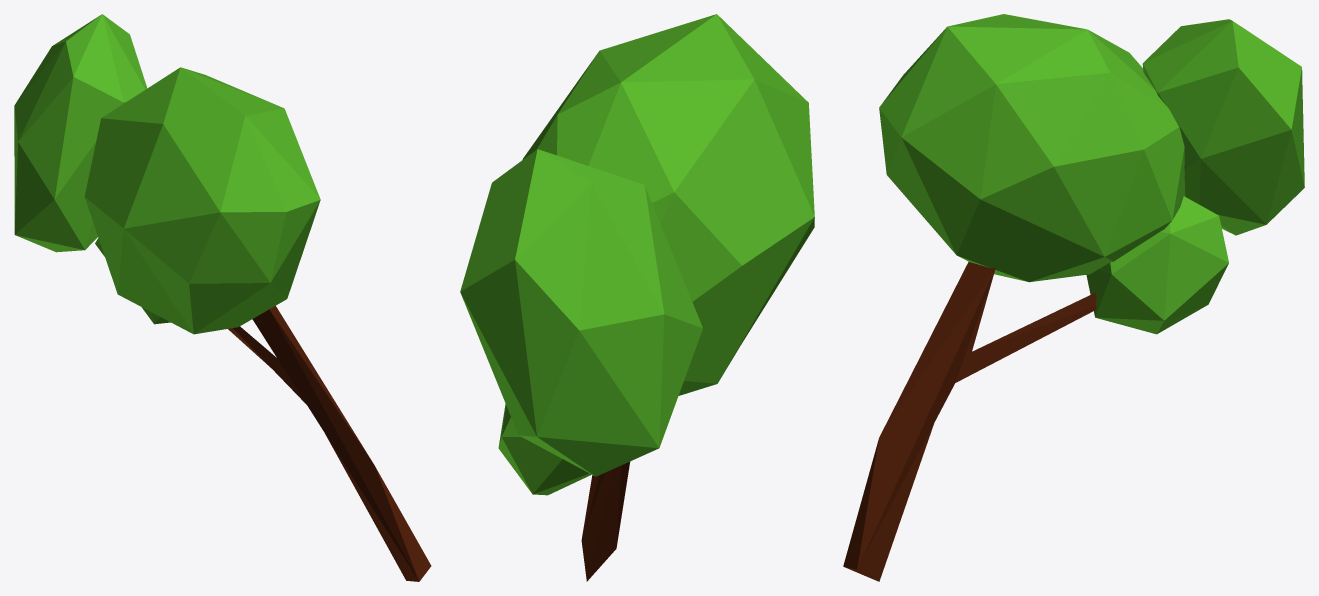
File: apple-tree.glb
3 renders of one model, left to right at view 1: azimuth 30°, elevation 25°; view 2: azimuth 150°, elevation 25°; view 3: azimuth 270°, elevation 25°, orthographic. The views are drawn at different scales.
Parts seen in each view (by area): view 1: APPLE TREE.002; view 2: APPLE TREE.002; view 3: APPLE TREE.002.
Boxes of the visible parts, x1,y1,x2,y2 form: APPLE TREE.002: [14, 14, 431, 581]; APPLE TREE.002: [460, 14, 814, 581]; APPLE TREE.002: [843, 14, 1304, 581].
Size of the model in its own units: 3.06 by 5.8 by 4.92.
